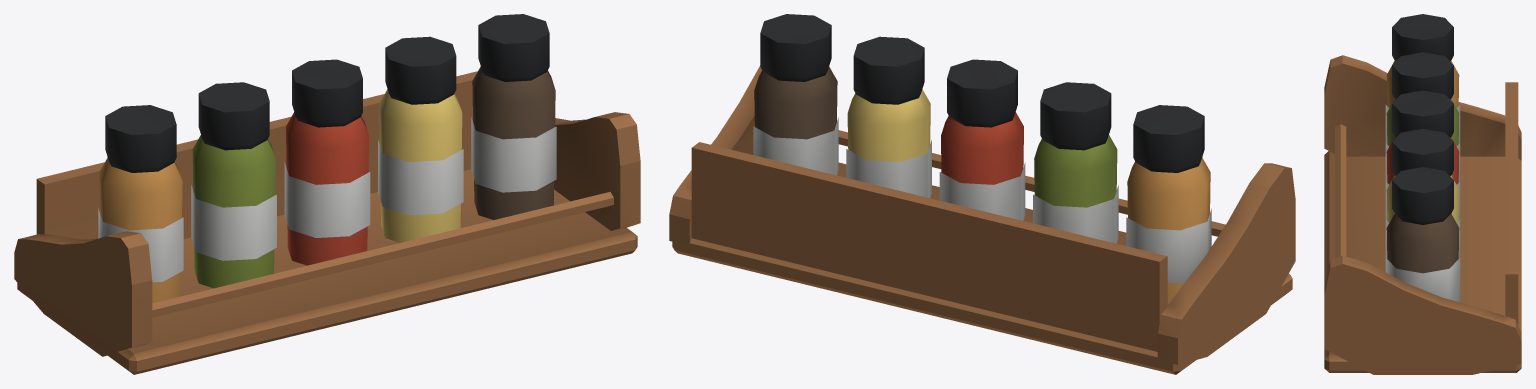
Rendered from spiceJars.glb.
3 views of the same model, side by side, from view 1: azimuth 30°, elevation 25°; view 2: azimuth 150°, elevation 25°; view 3: azimuth 270°, elevation 25° (orthographic). The views are drawn at different scales.
Parts seen in each view (by area): view 1: spiceJars; view 2: spiceJars; view 3: spiceJars.
Boxes of the visible parts, left/top/right/bottom form: spiceJars: left=14, top=14, right=640, bottom=374; spiceJars: left=669, top=14, right=1295, bottom=374; spiceJars: left=1324, top=14, right=1521, bottom=374.
Bounding box in the file's own units: 0.3 × 0.112 × 0.12.
